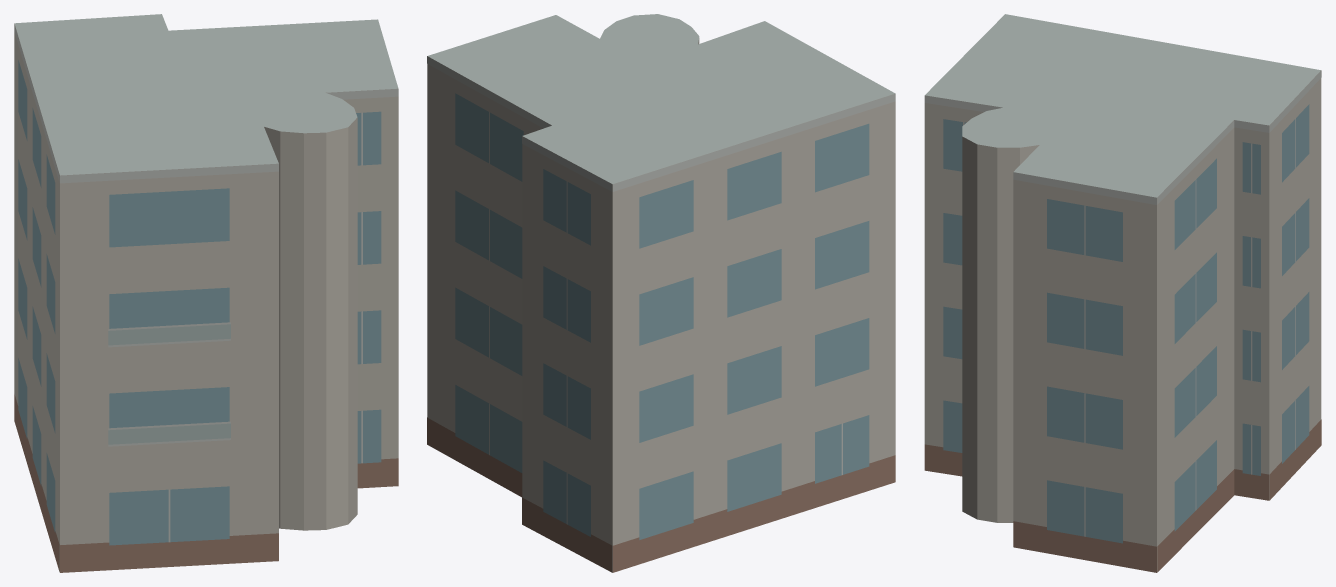
The model's file is survey-upis-32727208.glb.
The picture shows the model from 3 angles, left to right: view 1: azimuth 30°, elevation 25°; view 2: azimuth 150°, elevation 25°; view 3: azimuth 270°, elevation 25°; orthographic projection. The views are drawn at different scales.
Parts seen in each view (by area): view 1: survey-upis-32727208.tmp; view 2: survey-upis-32727208.tmp; view 3: survey-upis-32727208.tmp.
Boxes of the visible parts, x1=… form: survey-upis-32727208.tmp: x1=14, y1=14, x2=398, y2=572; survey-upis-32727208.tmp: x1=427, y1=14, x2=895, y2=572; survey-upis-32727208.tmp: x1=924, y1=14, x2=1321, y2=572.
Bounding box in the file's own units: 12.82 × 12.2 × 11.7.
